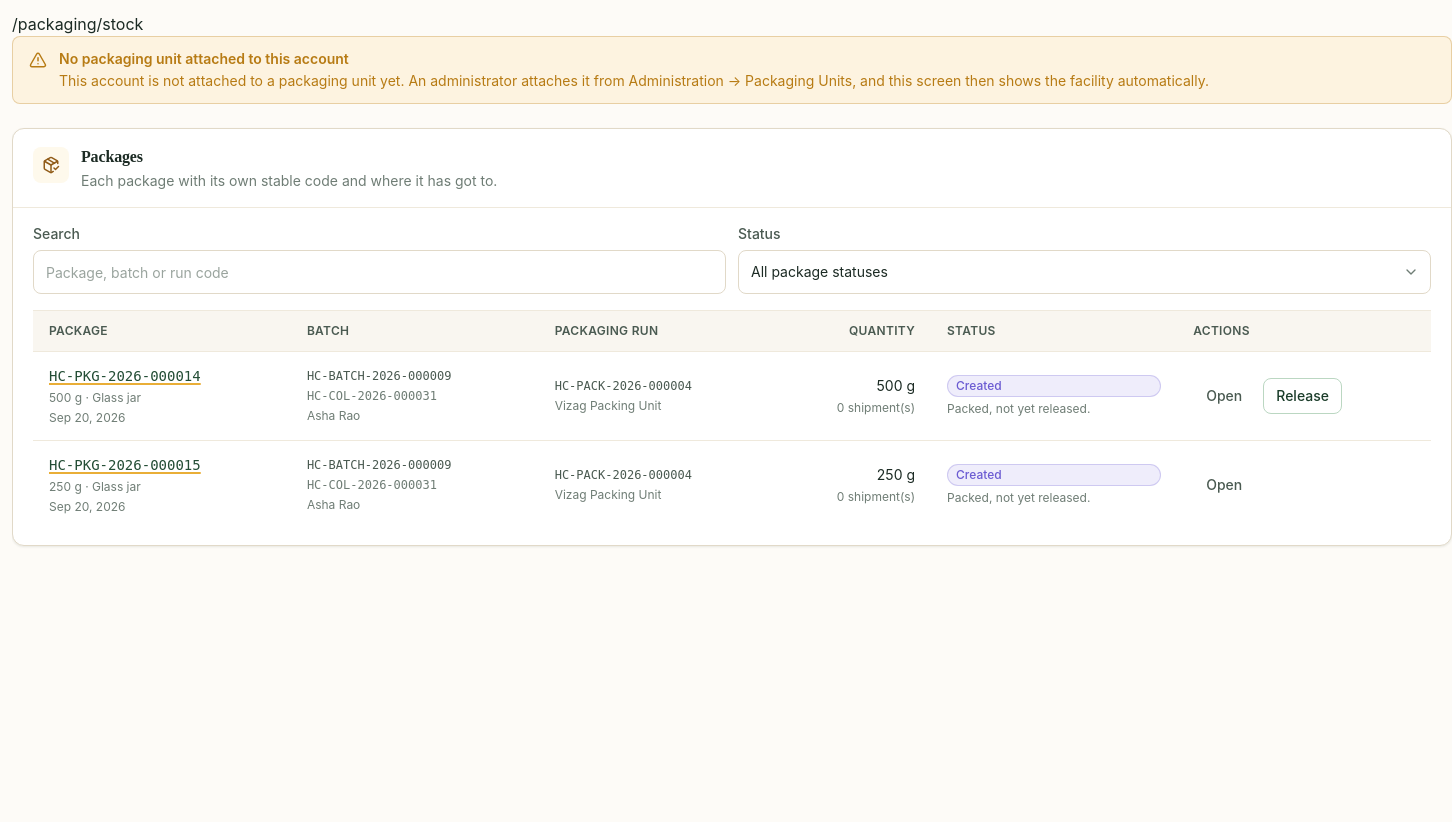
Test case: Packed stock → package information › opens the real package when the package code is clicked
What coordinates should you click on to do the following:
click the button "HC-PKG-2026-000014"
I would click on:
 (162, 376)
Its box is left=49, top=366, right=275, bottom=386.
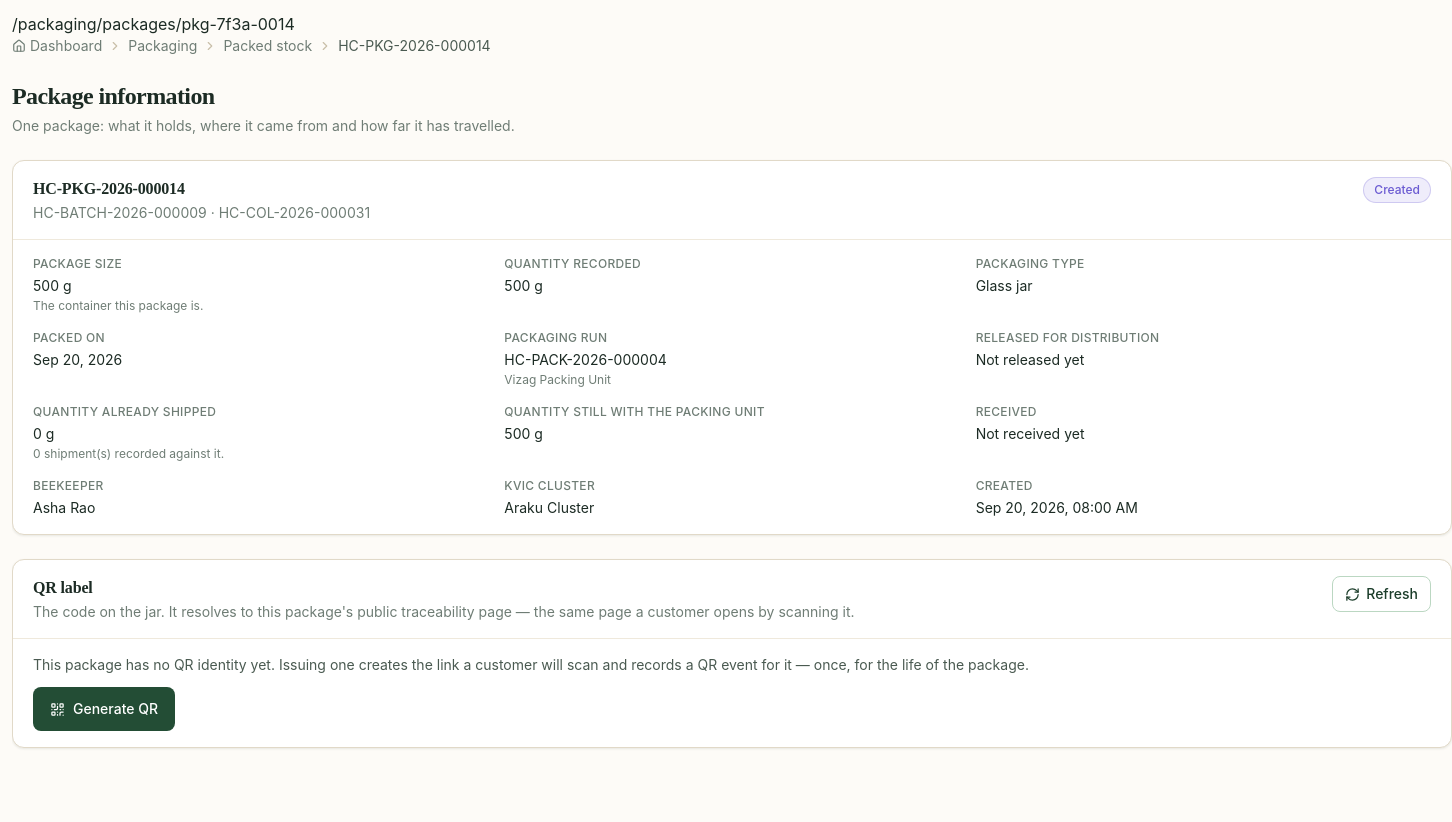
expect the text with test id "location" reads "/packaging/packages/pkg-7f3a-0014": met, box left=12, top=14, right=295, bottom=34
expect the heading "Package information" is shown: met, box left=12, top=80, right=215, bottom=112
